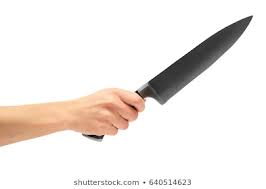knife: (81, 13, 256, 144)
